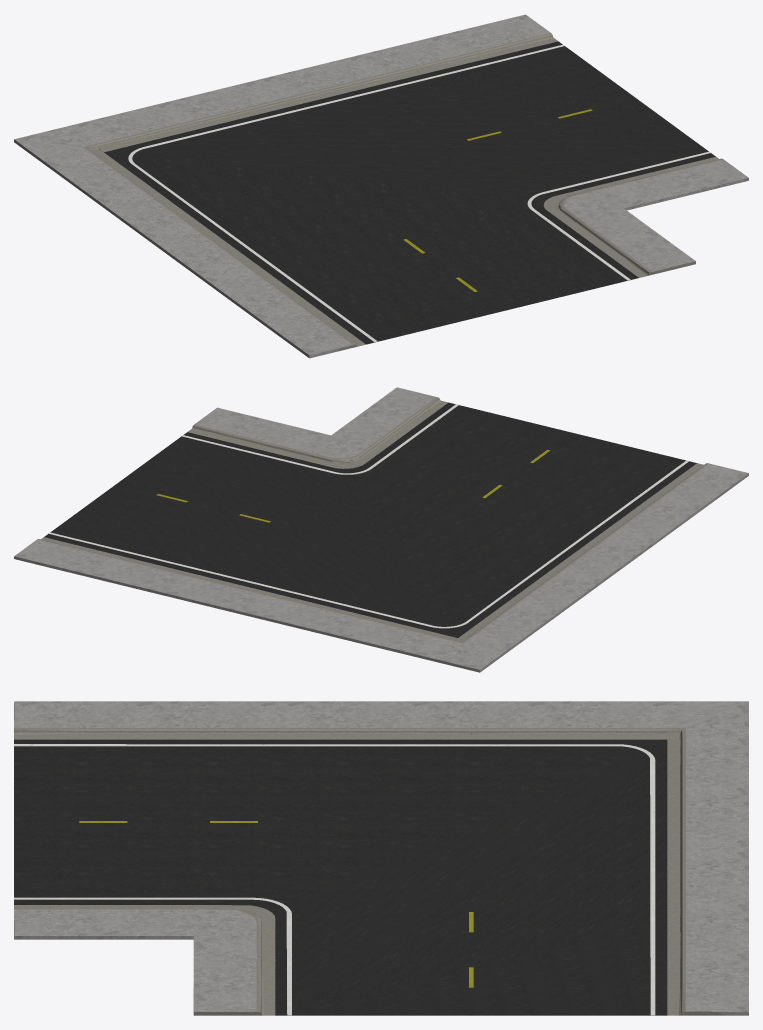
The model's file is corner.fbx.
The picture shows the model from 3 angles, top to bottom: view 1: azimuth 30°, elevation 25°; view 2: azimuth 150°, elevation 25°; view 3: azimuth 270°, elevation 25°; orthographic projection. The views are drawn at different scales.
Visible parts, largest first — view 1: general_street_corner_w_sidewalk; view 2: general_street_corner_w_sidewalk; view 3: general_street_corner_w_sidewalk.
Part boxes in pixels (x1=…): general_street_corner_w_sidewalk: x1=14, y1=14, x2=748, y2=358; general_street_corner_w_sidewalk: x1=14, y1=387, x2=748, y2=672; general_street_corner_w_sidewalk: x1=14, y1=701, x2=748, y2=1015.
Bounding box in the file's own units: 2700 × 15.47 × 2700.
2 materials, 2 textured.
